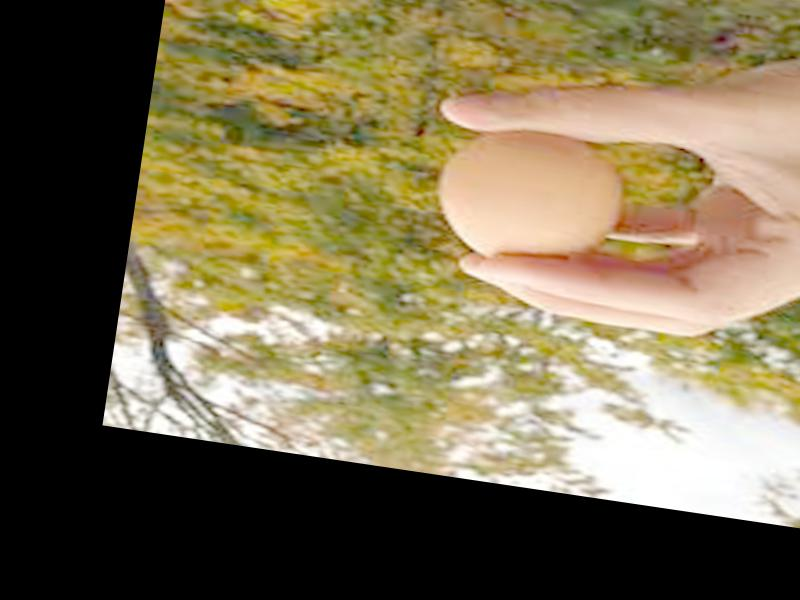Eggs: (431, 118, 627, 276)
